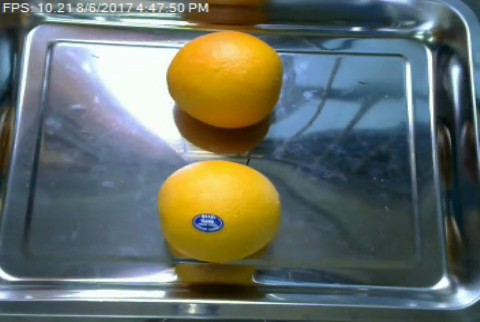Orange: (157, 160, 281, 262), (168, 30, 283, 127)
